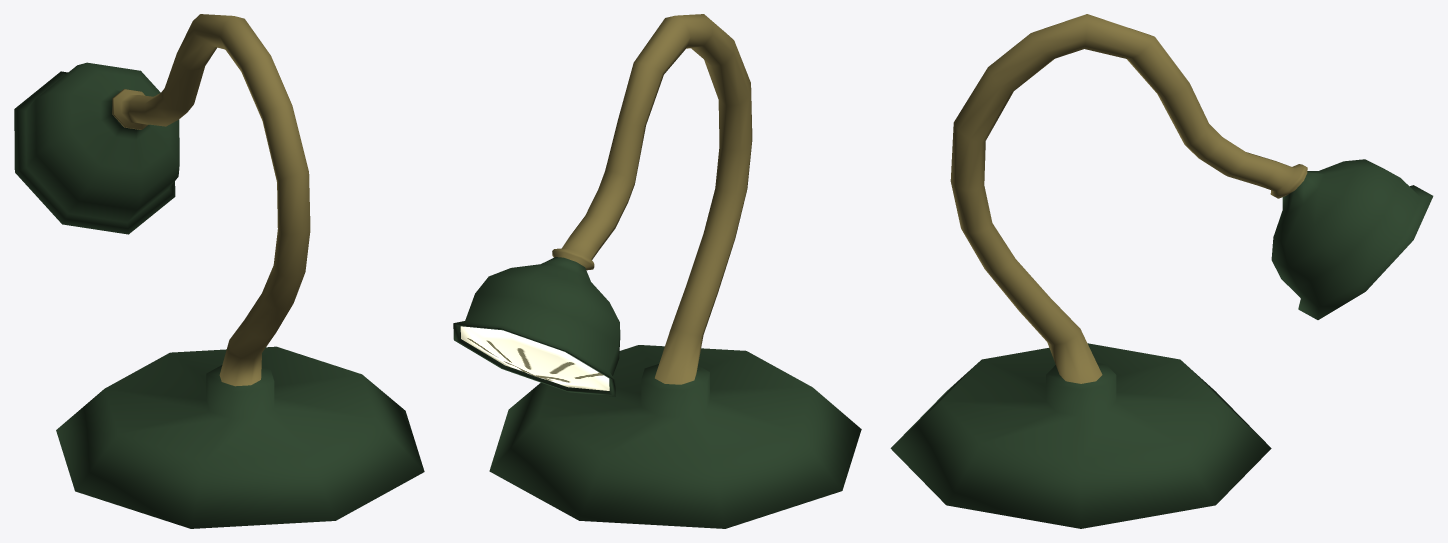
The model's file is lamp.gltf.
The picture shows the model from 3 angles, left to right: view 1: azimuth 30°, elevation 25°; view 2: azimuth 150°, elevation 25°; view 3: azimuth 270°, elevation 25°; orthographic projection.
Visible parts, largest first — view 1: Circle; view 2: Circle; view 3: Circle.
Part boxes in pixels (box(x1,y1,x2,y2)): Circle: box(14, 14, 424, 528); Circle: box(453, 14, 861, 528); Circle: box(890, 14, 1433, 528).
Size of the model in its own units: 0.2 by 0.2507 by 0.2849.
Materials: 3 (1 with a texture image).
